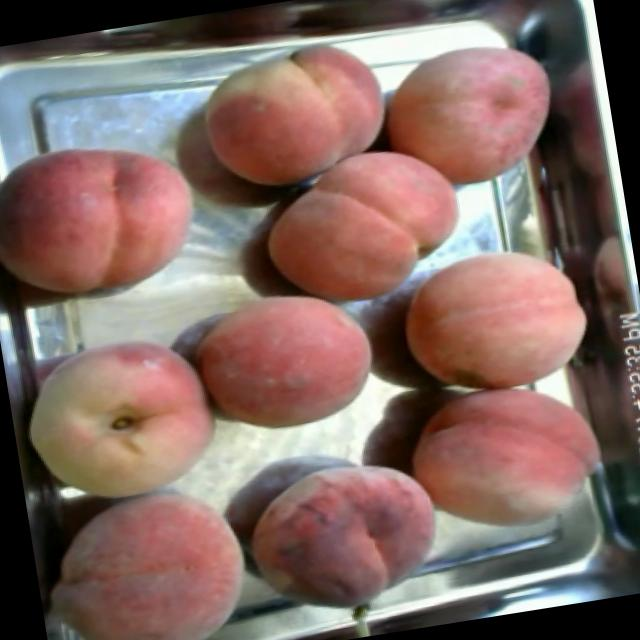Fruit: (219, 434, 461, 636), (4, 308, 239, 516), (241, 125, 484, 324), (181, 18, 410, 214), (0, 118, 214, 322), (170, 264, 392, 456), (382, 222, 606, 408), (393, 369, 618, 553), (26, 474, 275, 640), (366, 18, 578, 206)
